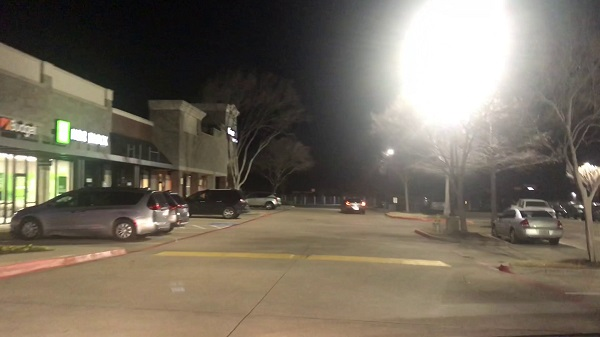car: (7, 184, 174, 241), (492, 205, 564, 245), (186, 188, 245, 221), (243, 188, 283, 208), (165, 190, 189, 222), (339, 193, 369, 212)
